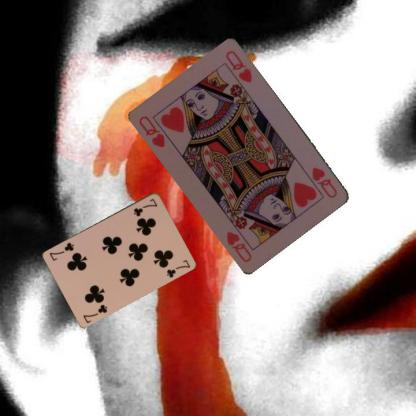7c: (81, 302, 109, 324), (131, 196, 158, 217)
Qh: (136, 113, 167, 149), (309, 164, 339, 199)
